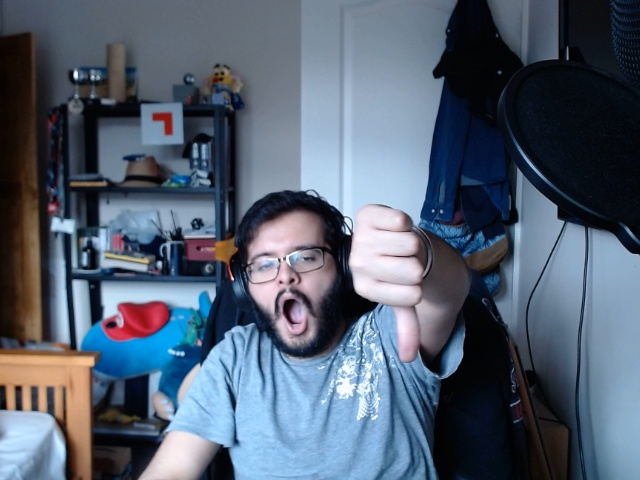Thumbs down: (343, 193, 430, 374)
